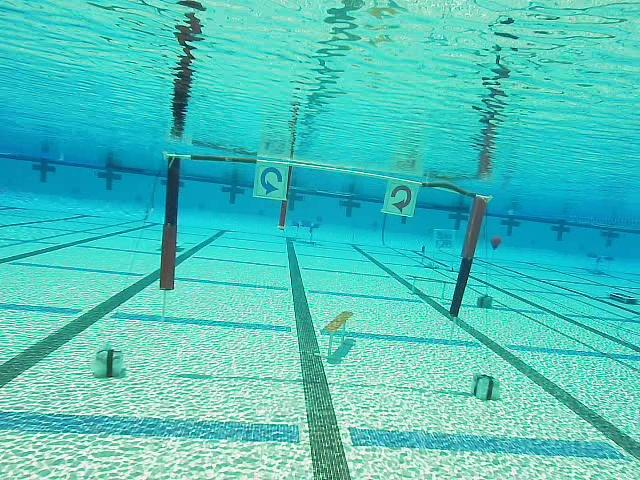buoy: (489, 235, 502, 253)
dropper: (608, 289, 640, 310)
gate: (159, 153, 491, 317)
gate_blue: (254, 163, 289, 199)
gate_leg_l: (159, 154, 182, 290)
gate_leg_r: (449, 193, 491, 317)
gate_red: (383, 180, 419, 217)
table: (583, 250, 614, 279), (291, 219, 319, 244)
torpedo: (434, 229, 455, 250)
